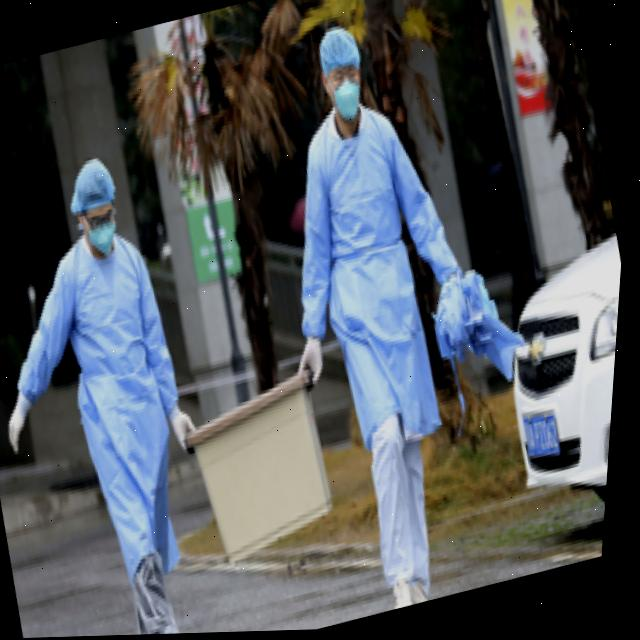Mask: (320, 70, 373, 129), (84, 215, 127, 263)
